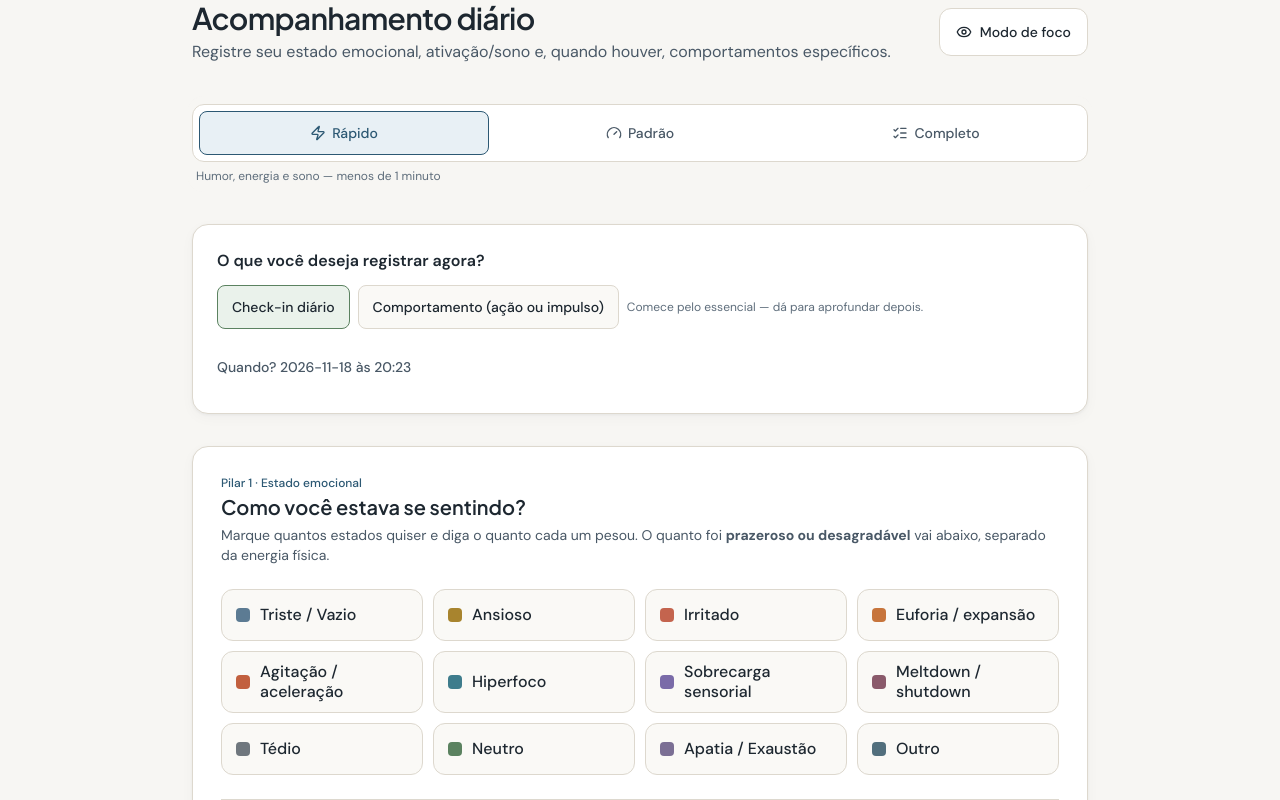
Test: DailyLogForm › registra a resposta "Não" no portão rápido e permite corrigir
The image size is (1280, 800).
Click the button "Ansioso" at (534, 615), box 433,589 -> 635,641
(page scrolled)
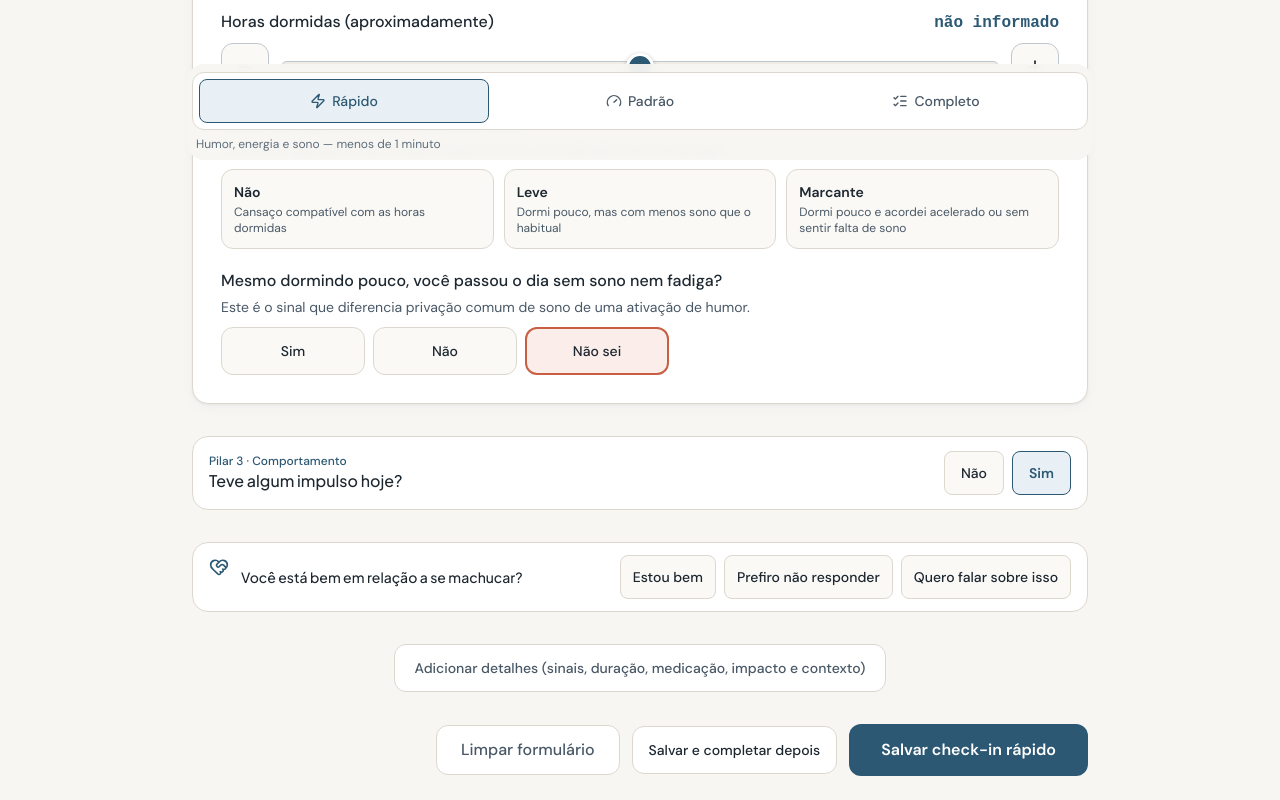
Click the button "Não" in the row of "Teve algum impulso hoje?" at (974, 473), box 944,451 -> 1004,495
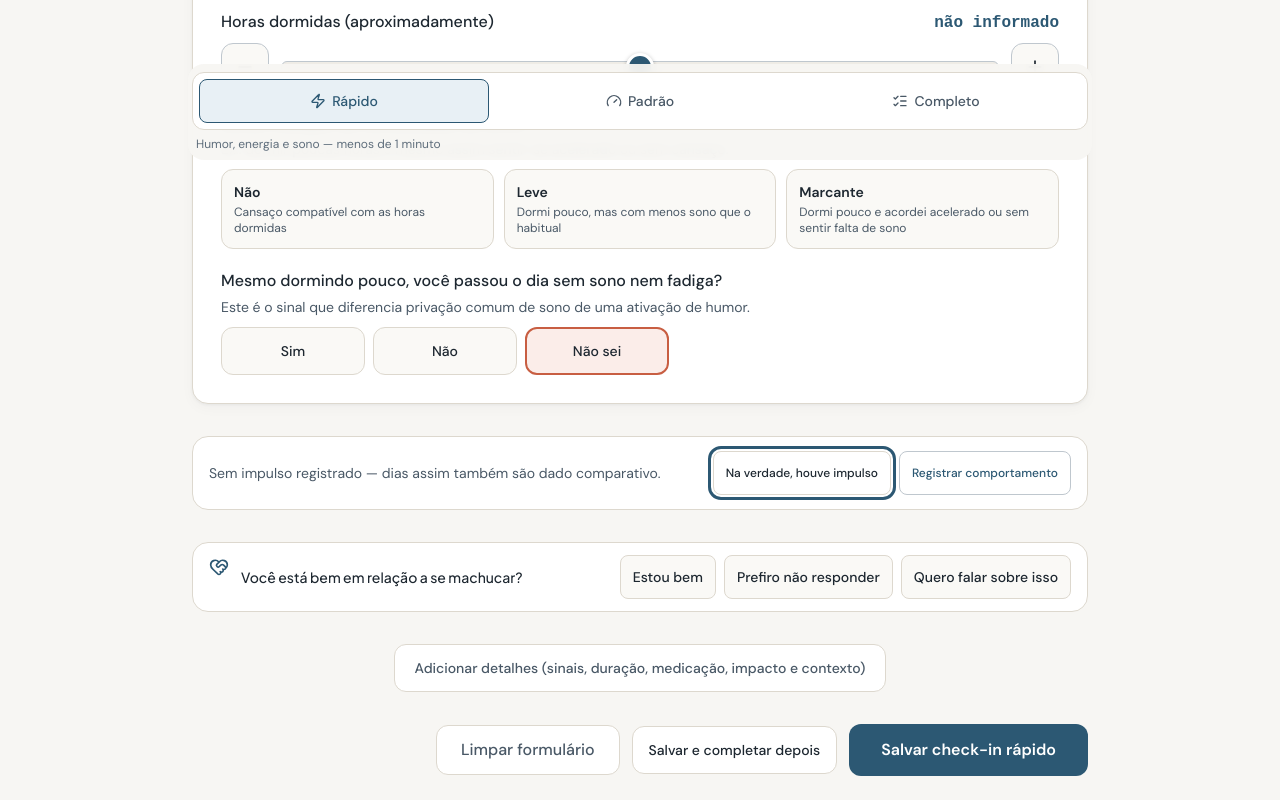
Expected: the text "Sem impulso registrado" is shown, 209,464 -> 661,482
Expected: the heading "Teve algum impulso hoje?" is gone
Click the button "Na verdade, houve impulso" at (802, 473), box 713,451 -> 891,495
(page scrolled)
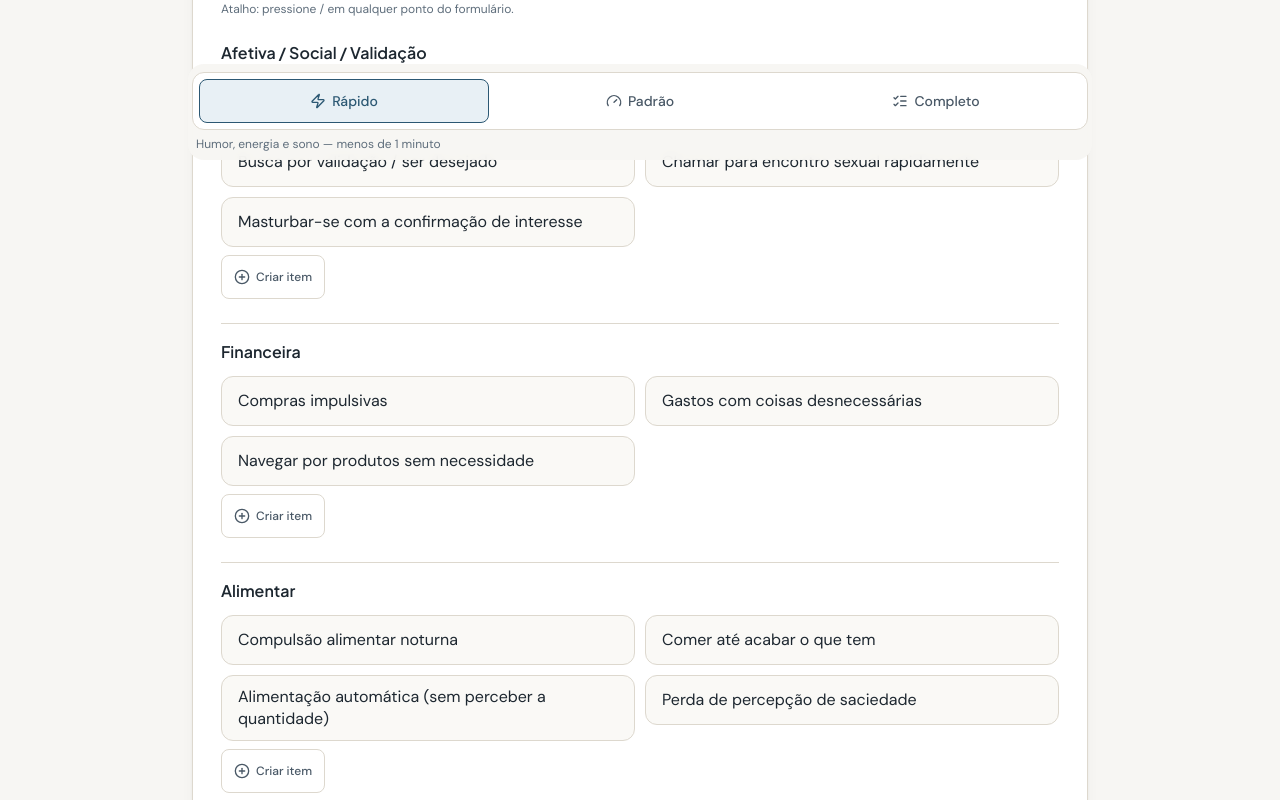
Expected: the button "Compras impulsivas" is shown, 221,376 -> 635,426
